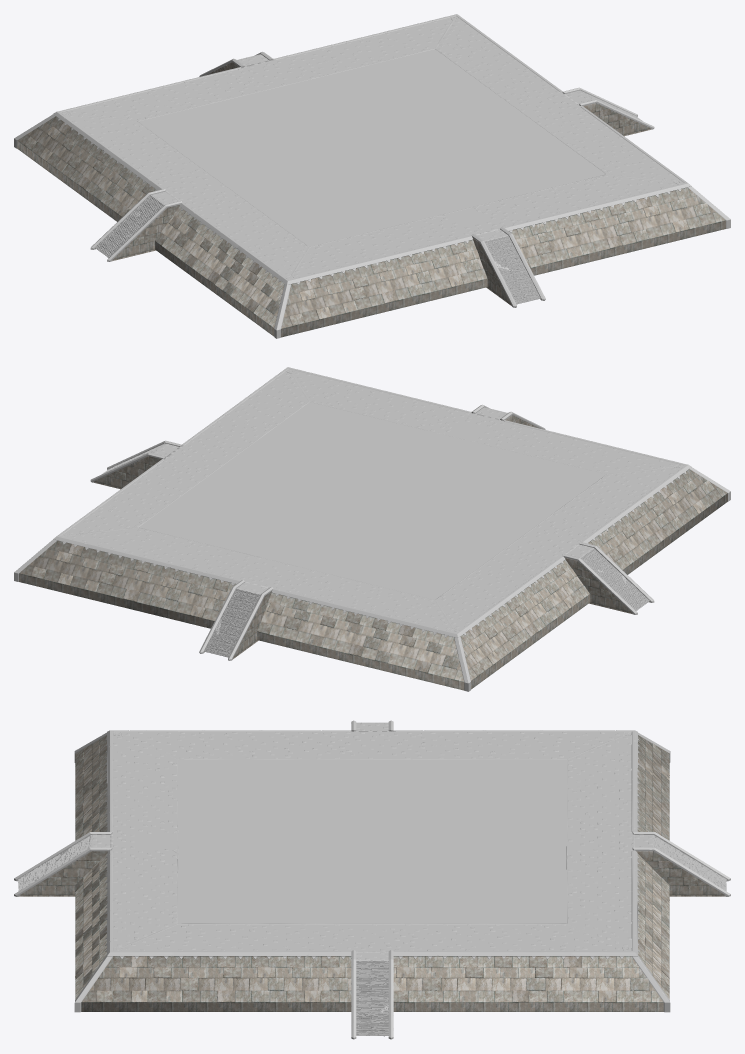
The picture shows the model from 3 angles, top to bottom: view 1: azimuth 30°, elevation 25°; view 2: azimuth 150°, elevation 25°; view 3: azimuth 270°, elevation 25°; orthographic projection. The views are drawn at different scales.
Visible parts, largest first — view 1: SM_DK_Pyramid_Bottom_01v1_LOD0; view 2: SM_DK_Pyramid_Bottom_01v1_LOD0; view 3: SM_DK_Pyramid_Bottom_01v1_LOD0.
Part boxes in pixels (<box>): SM_DK_Pyramid_Bottom_01v1_LOD0: <box>14,14,730,338</box>; SM_DK_Pyramid_Bottom_01v1_LOD0: <box>14,367,730,691</box>; SM_DK_Pyramid_Bottom_01v1_LOD0: <box>14,720,730,1039</box>.
Size of the model in its own units: 203 by 15.08 by 203.
